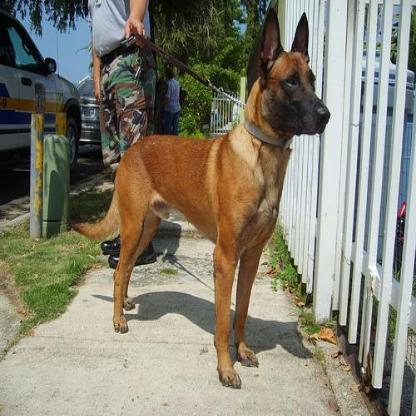malinois: (66, 6, 328, 387)
